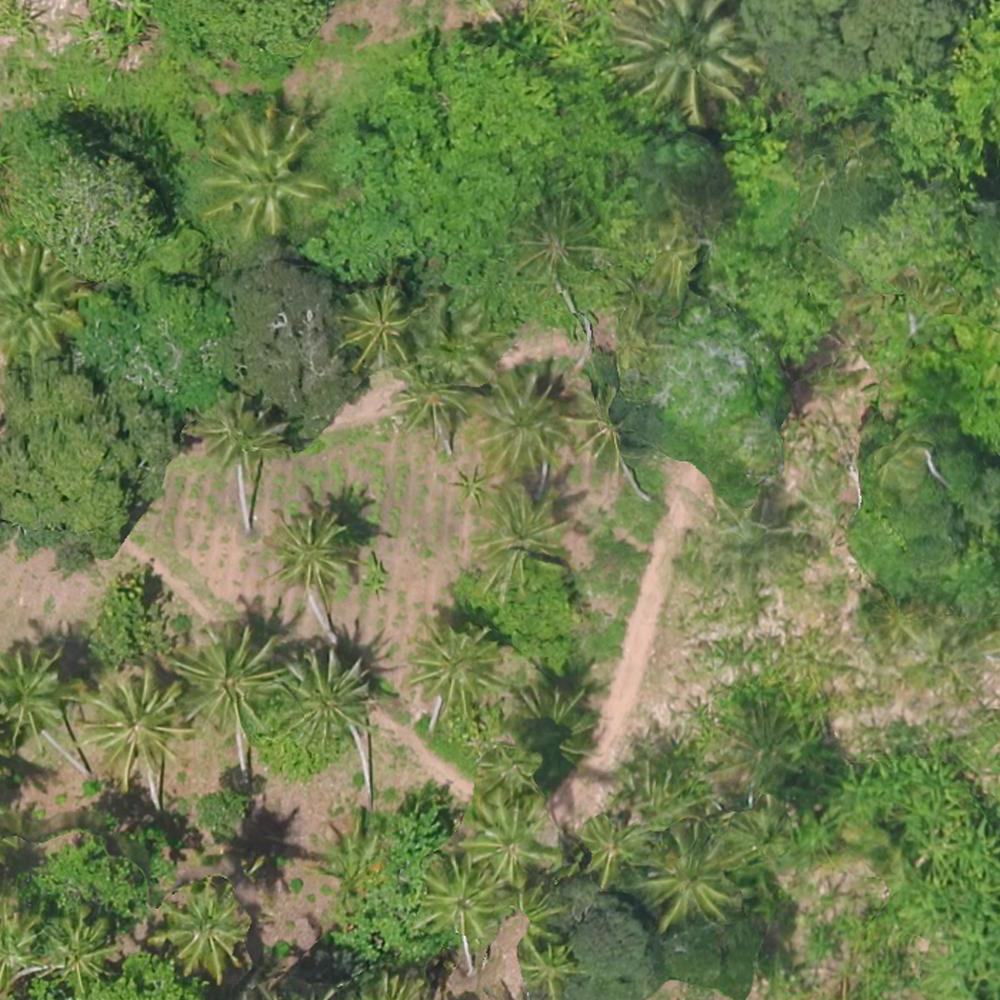Palm: (614, 1, 753, 115), (203, 118, 317, 227), (76, 667, 188, 772), (170, 626, 280, 729), (1, 244, 93, 362), (475, 486, 571, 581), (405, 621, 505, 711), (471, 374, 574, 461), (276, 652, 376, 741), (645, 834, 737, 926), (463, 791, 555, 879), (160, 879, 245, 974), (262, 509, 355, 585), (419, 859, 507, 939), (1, 648, 74, 743), (195, 398, 288, 468), (337, 288, 410, 363), (399, 360, 470, 431), (580, 810, 648, 882), (518, 933, 585, 990)
